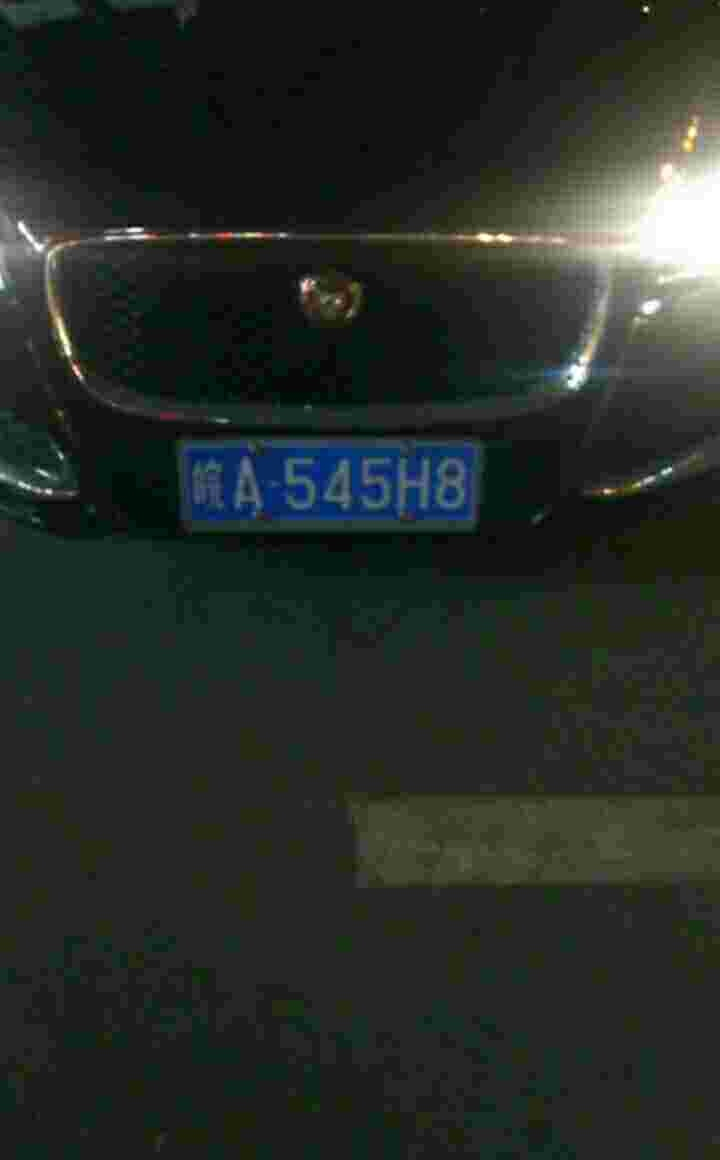license_plate: (171, 431, 470, 533)
